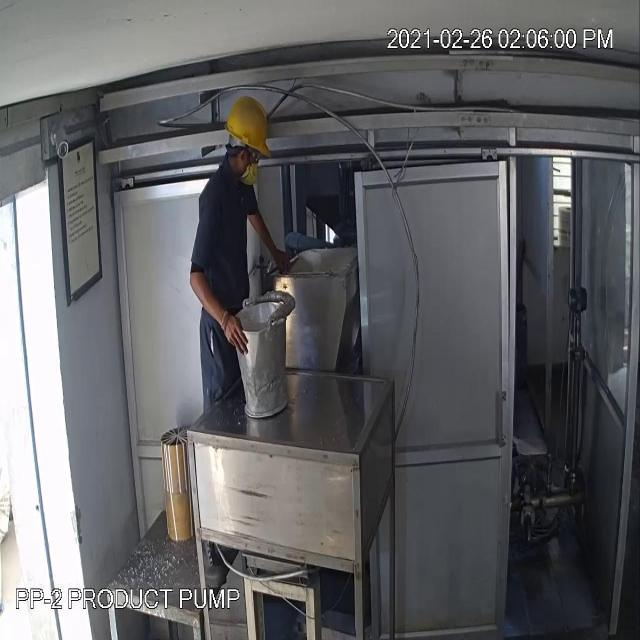helmet: (220, 95, 278, 162)
